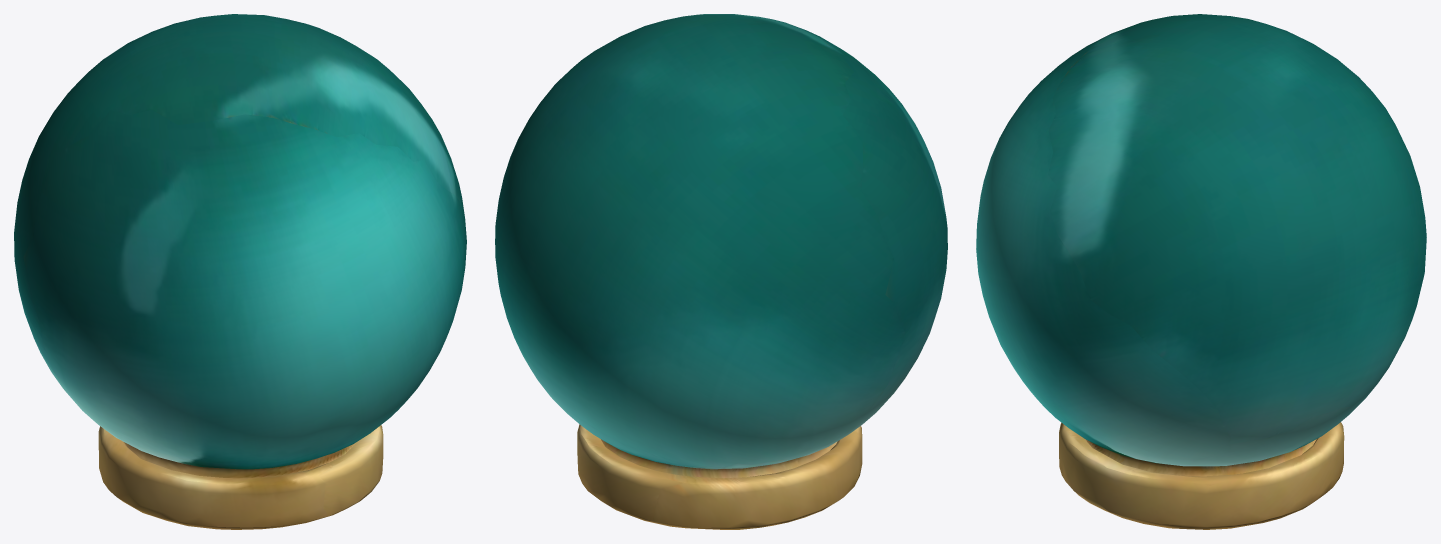
File: m2GoldRingOrb.glb
3 renders of one model, left to right at view 1: azimuth 30°, elevation 25°; view 2: azimuth 150°, elevation 25°; view 3: azimuth 270°, elevation 25°, orthographic.
Parts seen in each view (by area): view 1: model; view 2: model; view 3: model.
Boxes of the visible parts, x1,y1,x2,y2 form: model: (14,14,466,529); model: (495,14,947,529); model: (976,14,1426,529).
Size of the model in its own units: 1.76 by 1.89 by 1.76.
1 material, 1 textured.
